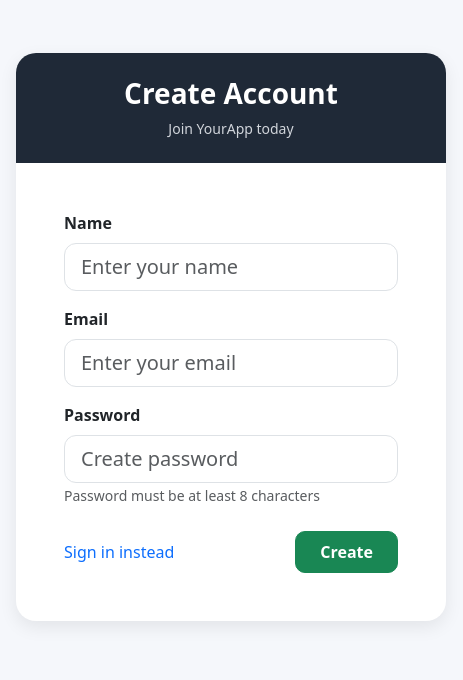
Test: Ce › 422バリデーションエラー
Type "test" into the field with placeholder "Enter your name" at (231, 267), box [64, 243, 398, 291]
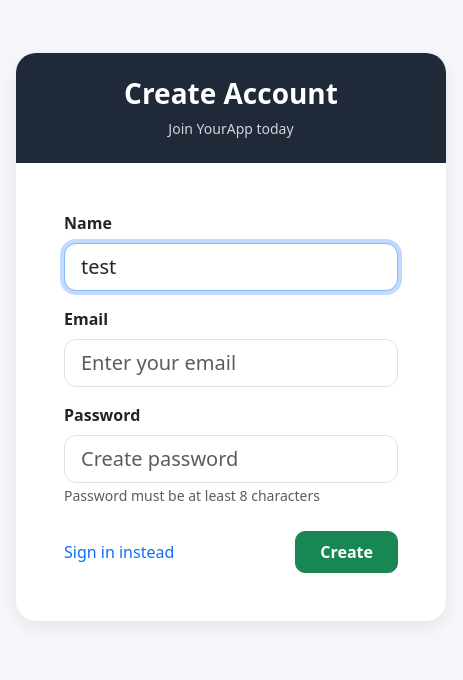
Type "test@test.com" into the field with placeholder "Enter your email" at (231, 363), box [64, 339, 398, 387]
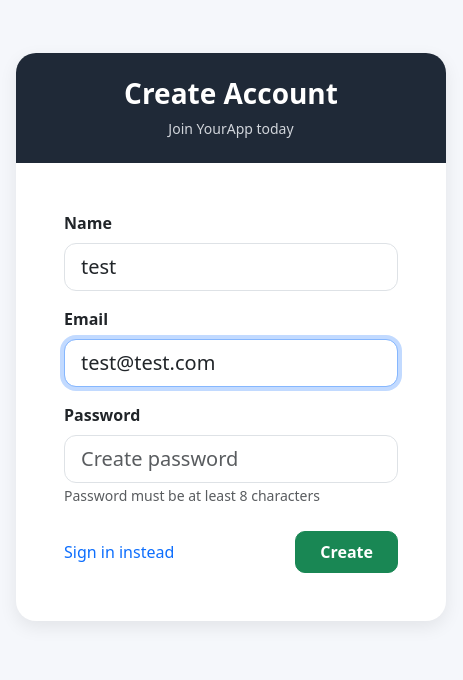
Type "password123" into the password field with placeholder "Create password" at (231, 459), box [64, 435, 398, 483]
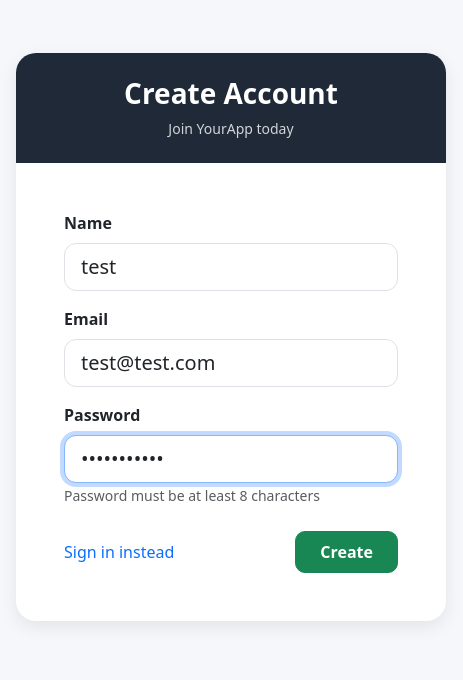
Click the button "Create" at (347, 552), box [295, 531, 398, 573]
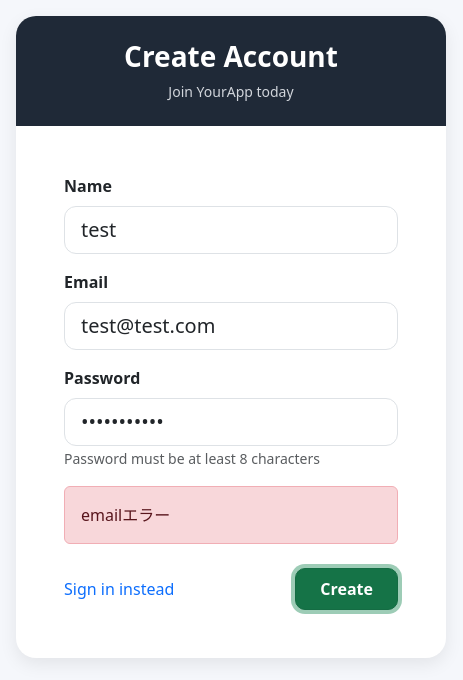
Now the text "emailエラー" is shown, box [64, 486, 398, 544]
